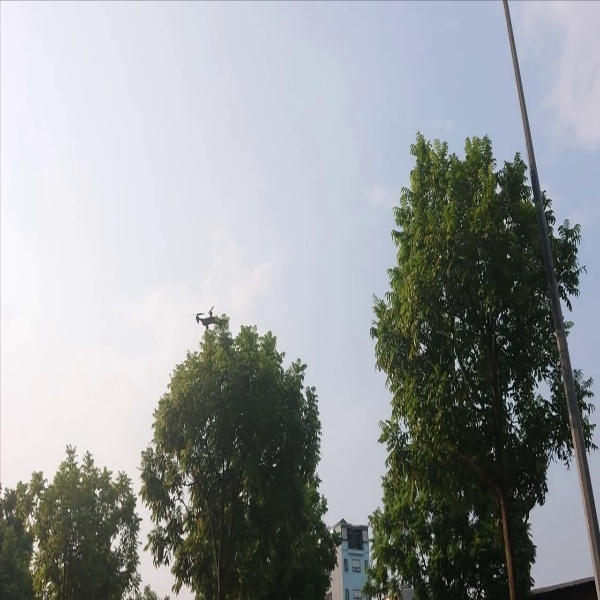drone: (191, 297, 226, 339)
